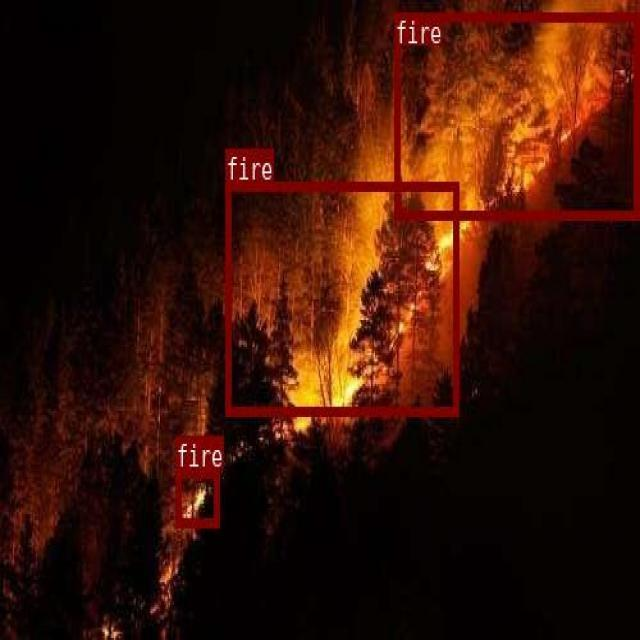fire: (225, 182, 458, 415), (394, 11, 637, 217), (175, 469, 218, 527)
